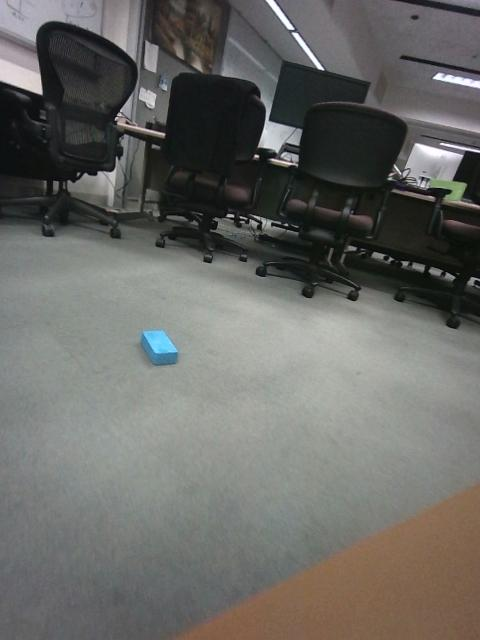block: (173, 369, 228, 431)
